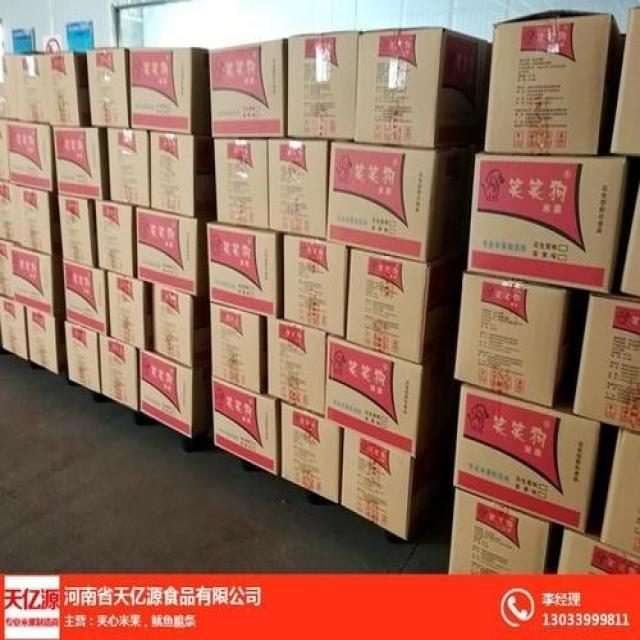box: (466, 153, 627, 296), (453, 381, 602, 534), (483, 10, 611, 154), (326, 140, 475, 263), (325, 334, 460, 459), (353, 28, 489, 149), (454, 274, 568, 408), (344, 247, 462, 365), (340, 428, 456, 541), (573, 294, 640, 433), (448, 488, 549, 575), (288, 32, 358, 141), (209, 38, 284, 137), (128, 47, 210, 132), (206, 224, 278, 318), (211, 377, 278, 477), (285, 235, 348, 340), (4, 51, 90, 127), (280, 402, 342, 506), (266, 316, 328, 418), (268, 138, 328, 241), (134, 205, 197, 296), (599, 428, 640, 559), (214, 138, 269, 231), (210, 303, 262, 396), (140, 350, 193, 438), (150, 131, 195, 218), (558, 528, 640, 574), (86, 49, 131, 128), (151, 282, 192, 368), (54, 127, 102, 200), (10, 243, 56, 316), (64, 259, 108, 335), (9, 122, 54, 193), (106, 272, 146, 350), (108, 128, 147, 207), (99, 333, 138, 412), (95, 200, 134, 278), (64, 322, 100, 394), (58, 196, 93, 266), (24, 306, 58, 374), (18, 187, 51, 255), (0, 296, 28, 360)
